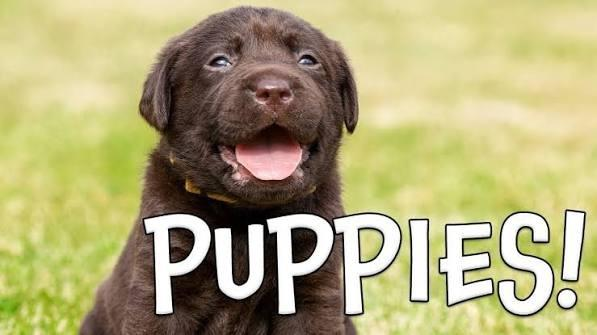puppy-dog: (83, 8, 362, 335)
